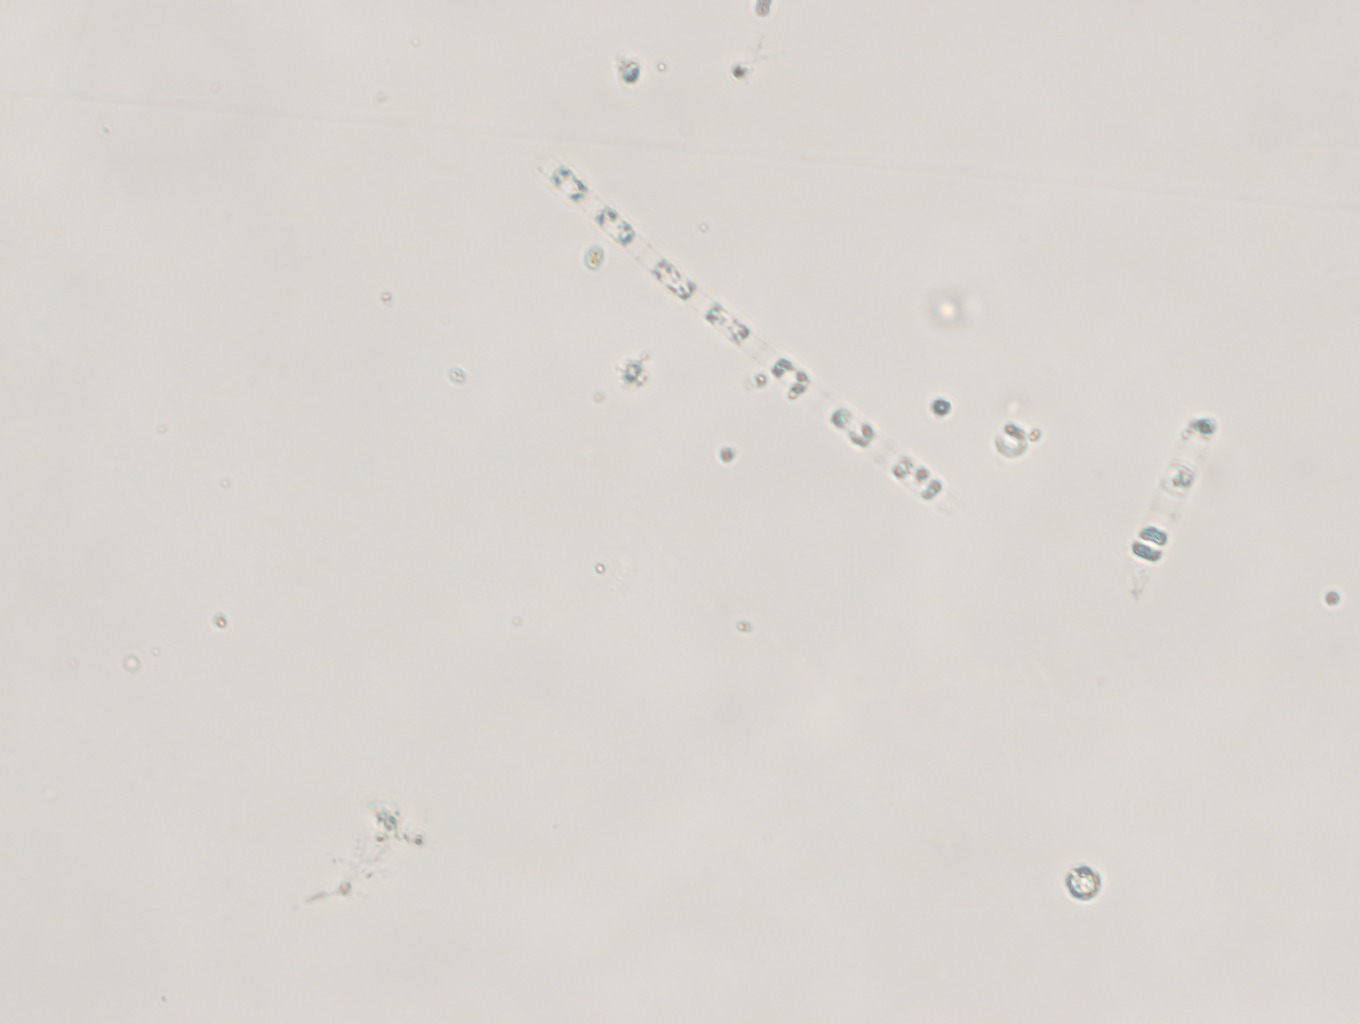skeletonema: (521, 132, 964, 522)
